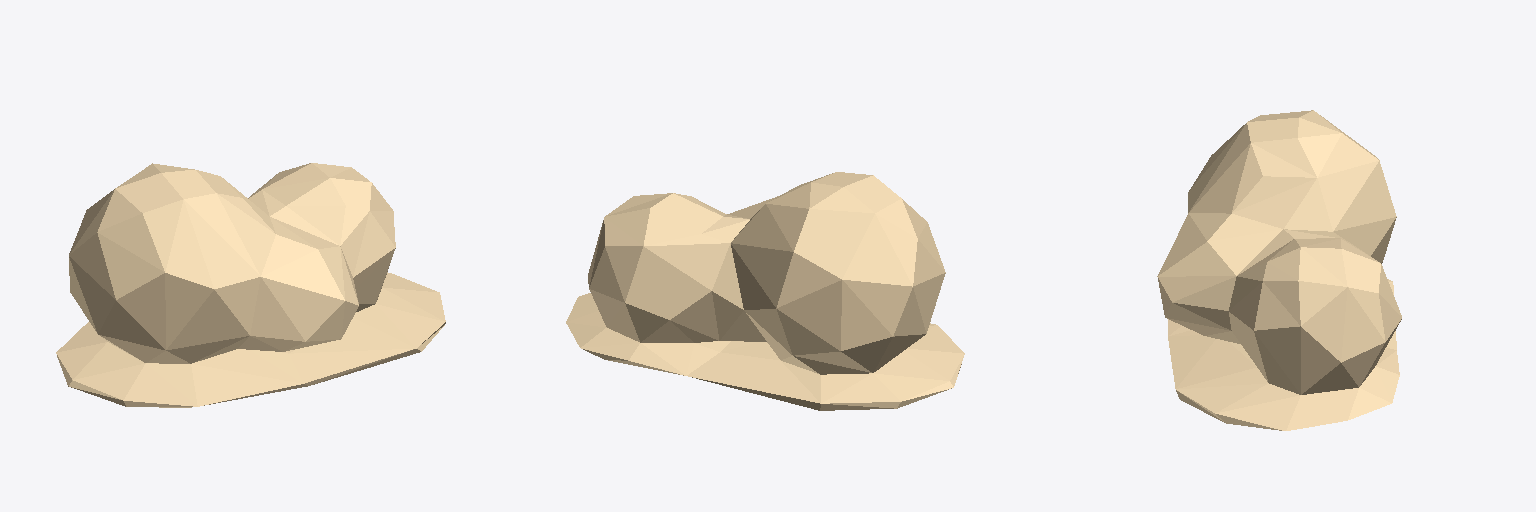
Rendered from Nubes.obj.
3 views of the same model, side by side, from view 1: azimuth 30°, elevation 25°; view 2: azimuth 150°, elevation 25°; view 3: azimuth 270°, elevation 25° (orthographic).
Parts seen in each view (by area): view 1: Nube; view 2: Nube; view 3: Nube.
Part boxes in pixels (x1,y1,x2,y2): Nube: (56, 163, 445, 407); Nube: (566, 172, 964, 410); Nube: (1157, 110, 1401, 430).
Size of the model in its own units: 3.58 by 1.77 by 2.03.